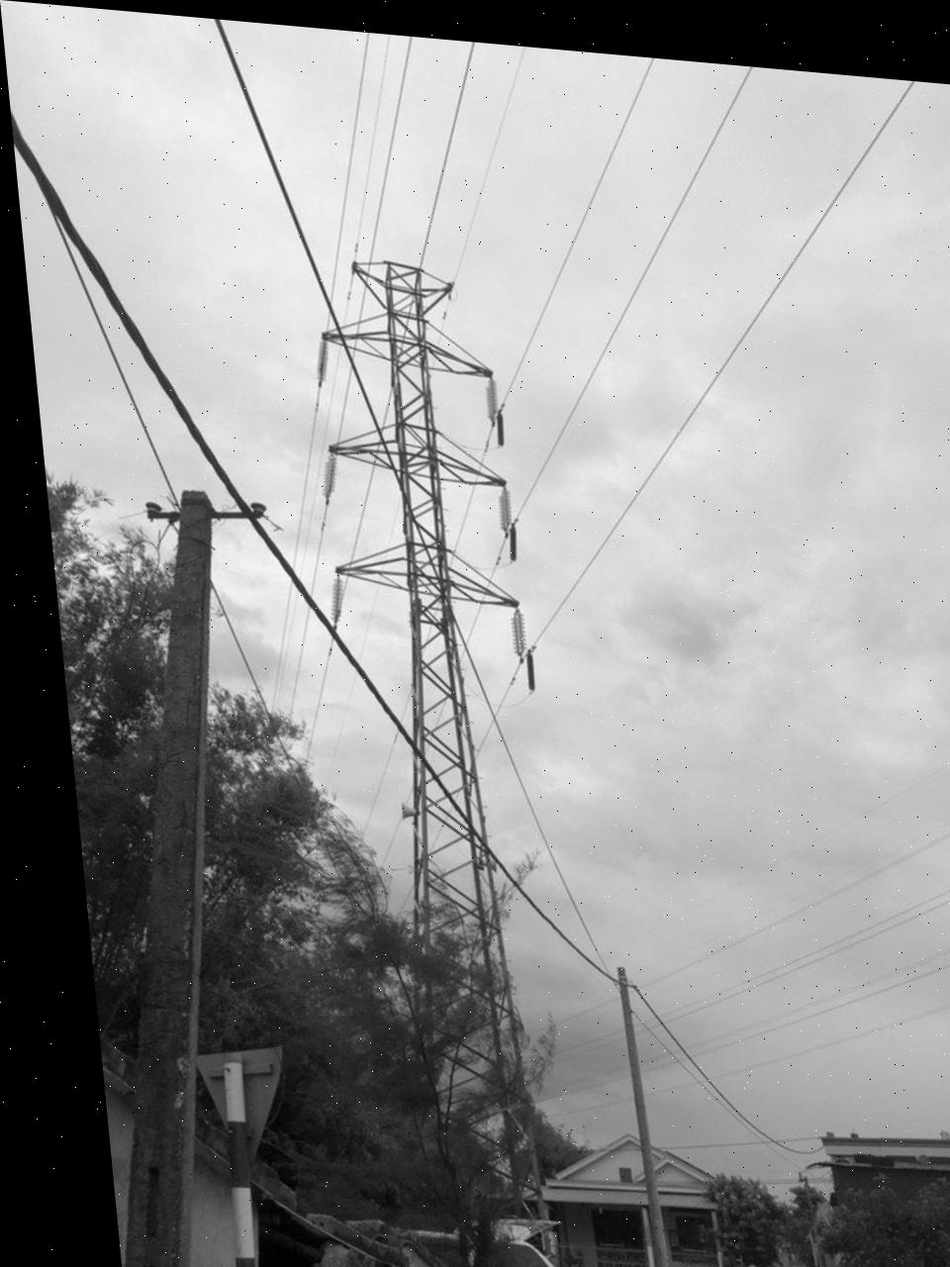tower: (278, 234, 636, 1267)
